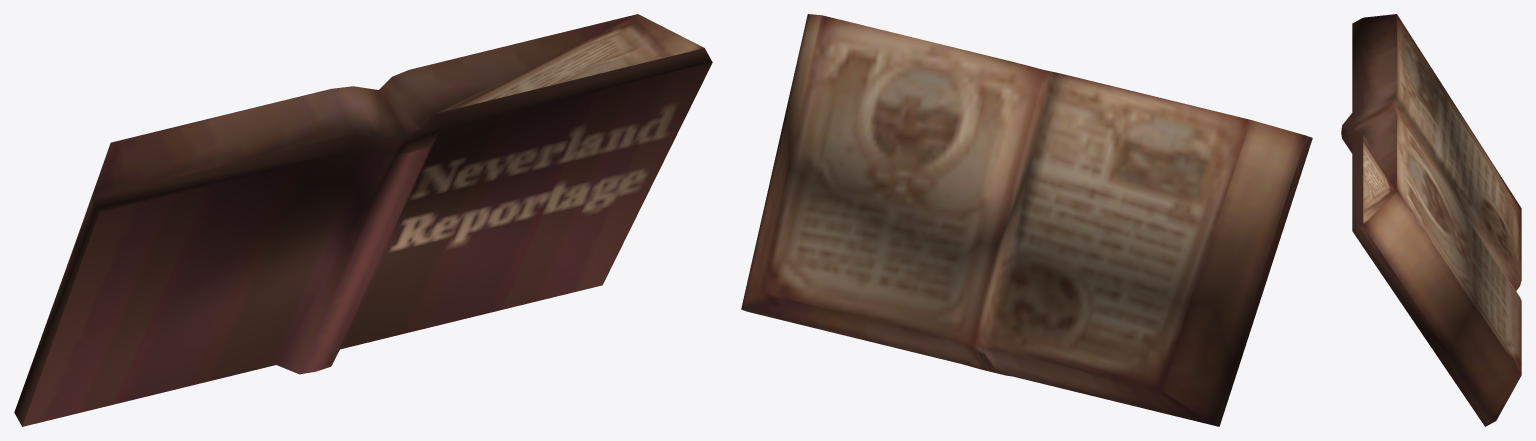
Rendered from static.ico.obj.
The picture shows the model from 3 angles, left to right: view 1: azimuth 30°, elevation 25°; view 2: azimuth 150°, elevation 25°; view 3: azimuth 270°, elevation 25°; orthographic projection. The views are drawn at different scales.
Bounding box in the file's own units: 4.91 × 2.55 × 1.81.
Materials: 1 (1 with a texture image).
